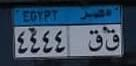4: (41, 29, 54, 55), (16, 30, 28, 56), (54, 29, 65, 54), (29, 31, 40, 55)
qaaf: (87, 30, 104, 53), (105, 29, 120, 52)
